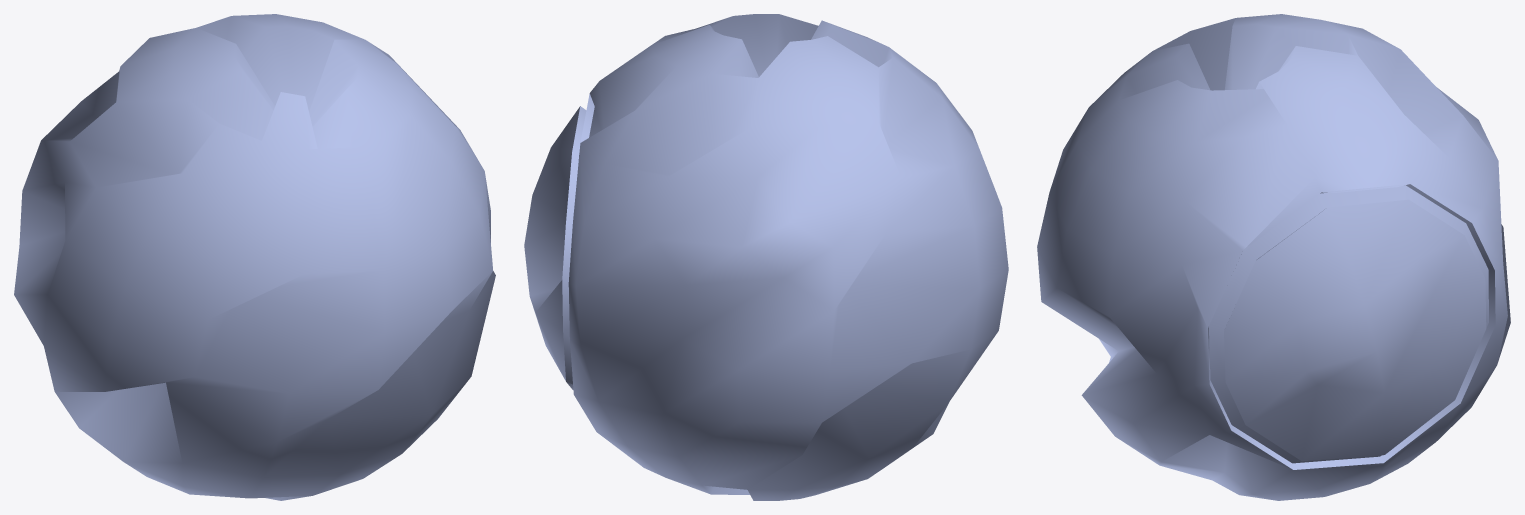
File: EsferaRota5.fbx
3 renders of one model, left to right at view 1: azimuth 30°, elevation 25°; view 2: azimuth 150°, elevation 25°; view 3: azimuth 270°, elevation 25°, orthographic.
Visible parts, largest first — view 1: Esfera_Vehiculo; view 2: Esfera_Vehiculo; view 3: Esfera_Vehiculo.
Boxes of the visible parts, bbox=[...] form: Esfera_Vehiculo: bbox=[14, 14, 495, 500]; Esfera_Vehiculo: bbox=[524, 14, 1008, 500]; Esfera_Vehiculo: bbox=[1037, 14, 1510, 500].
Bounding box in the file's own units: 2.98 × 3.01 × 2.93.
